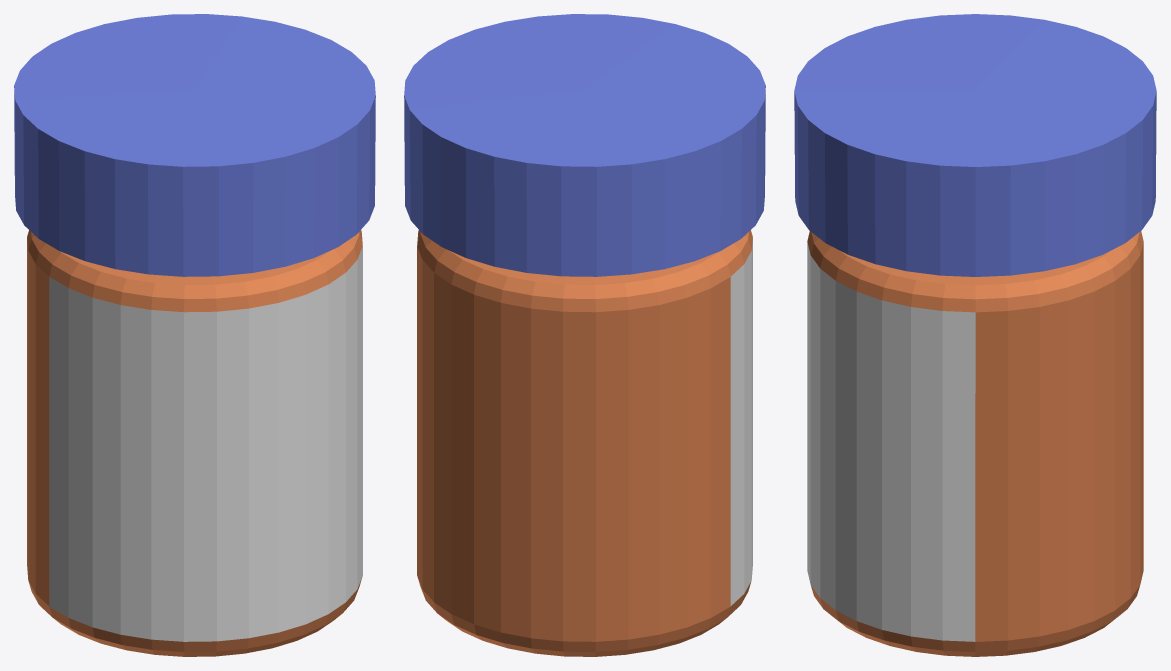
The model's file is Antibiotics (1).fbx.
The picture shows the model from 3 angles, left to right: view 1: azimuth 30°, elevation 25°; view 2: azimuth 150°, elevation 25°; view 3: azimuth 270°, elevation 25°; orthographic projection.
Parts seen in each view (by area): view 1: Cylinder, Cylinder.001; view 2: Cylinder, Cylinder.001; view 3: Cylinder, Cylinder.001.
Boxes of the visible parts, <box> form: Cylinder: <box>27,230,362,656</box>; Cylinder.001: <box>14,14,375,276</box>; Cylinder: <box>417,230,752,656</box>; Cylinder.001: <box>404,14,765,276</box>; Cylinder: <box>807,231,1143,656</box>; Cylinder.001: <box>794,14,1156,276</box>.
Bounding box in the file's own units: 541 × 832 × 541.
Materials: 2 (2 with a texture image).
